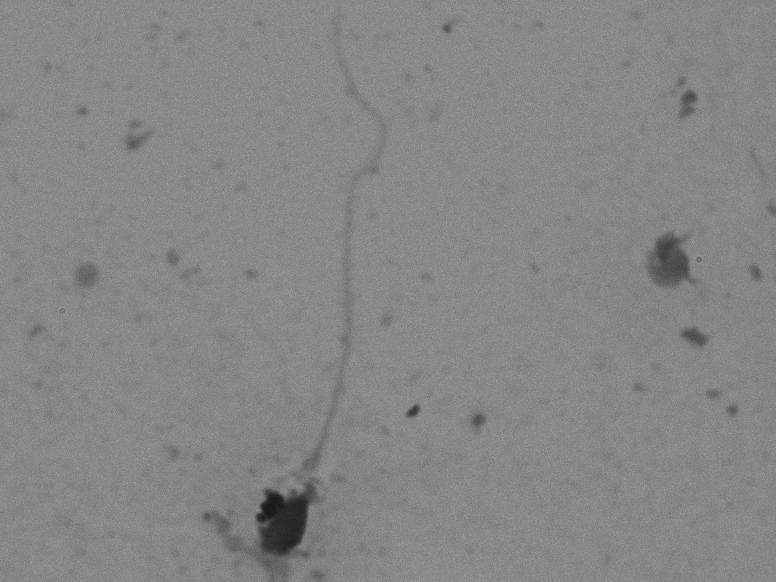Abnormal: (251, 8, 408, 559)
